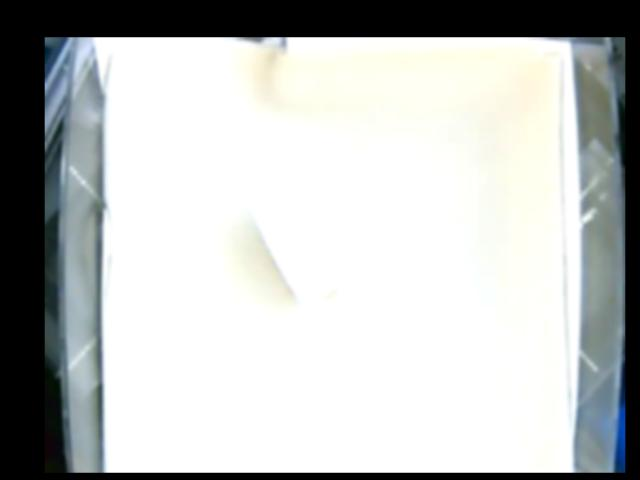Cup: (247, 174, 369, 313)
